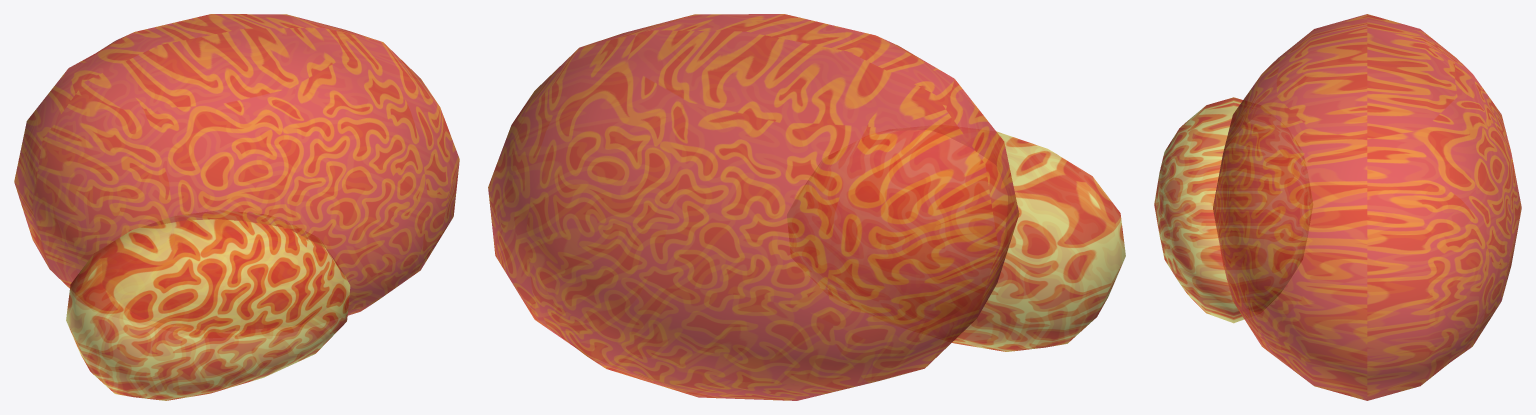
The model's file is coral rojo.fbx.
The picture shows the model from 3 angles, left to right: view 1: azimuth 30°, elevation 25°; view 2: azimuth 150°, elevation 25°; view 3: azimuth 270°, elevation 25°; orthographic projection. The views are drawn at different scales.
Visible parts, largest first — view 1: Box002, Box001; view 2: Box002, Box001; view 3: Box002, Box001.
Part boxes in pixels (<box>): Box002: <box>14,14,459,332</box>; Box001: <box>66,210,350,400</box>; Box002: <box>488,14,1019,400</box>; Box001: <box>787,130,1125,351</box>; Box002: <box>1213,14,1521,400</box>; Box001: <box>1154,97,1312,323</box>.
Size of the model in its own units: 35.5 by 23.34 by 27.44.
